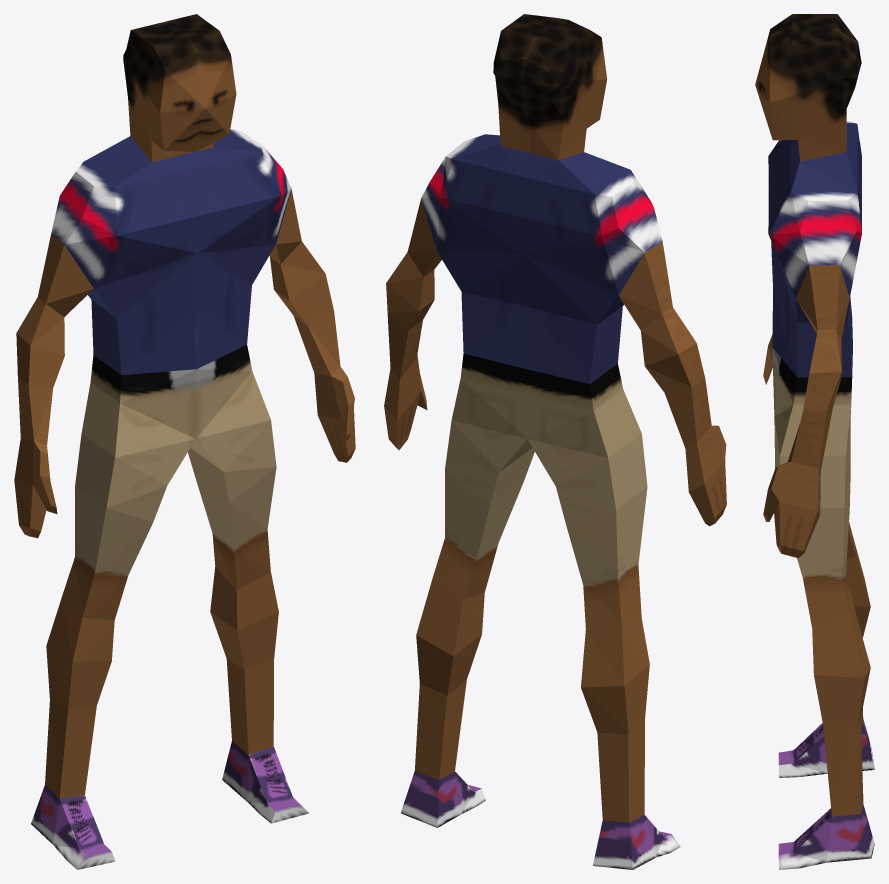
Rendered from NPC3.dae.
3 views of the same model, side by side, from view 1: azimuth 30°, elevation 25°; view 2: azimuth 150°, elevation 25°; view 3: azimuth 270°, elevation 25° (orthographic). The views are drawn at different scales.
Visible parts, largest first — view 1: Cube; view 2: Cube; view 3: Cube.
Boxes of the visible parts, bbox=[...] form: Cube: bbox=[14, 14, 355, 869]; Cube: bbox=[384, 14, 726, 869]; Cube: bbox=[755, 14, 874, 869].
Size of the model in its own units: 1.39 by 0.4487 by 3.27.
Materials: 1 (1 with a texture image).
